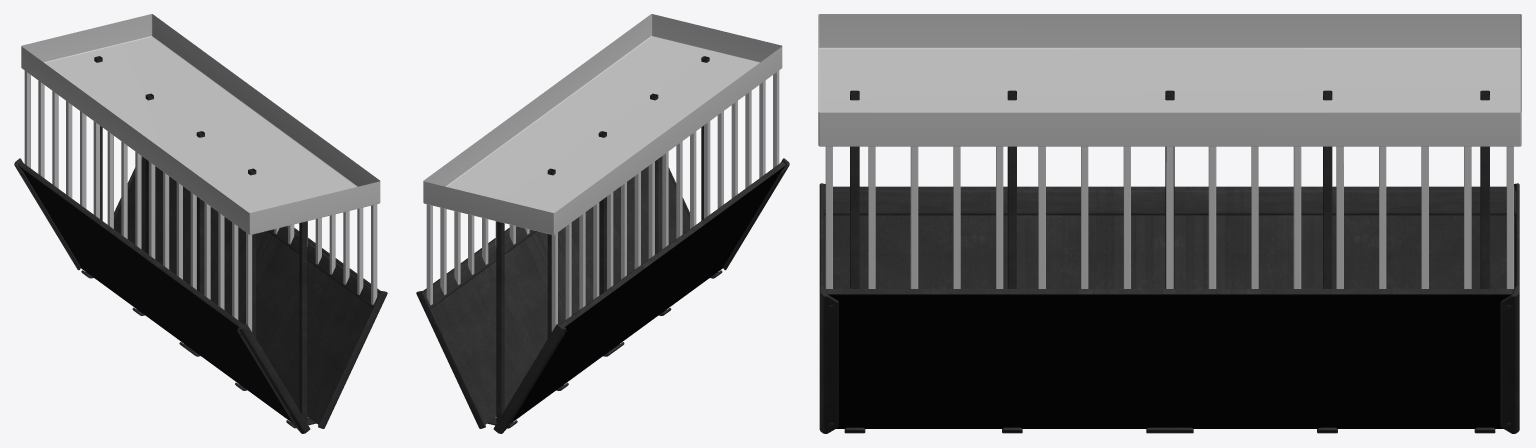
File: Screen_10.fbx
3 renders of one model, left to right at view 1: azimuth 30°, elevation 25°; view 2: azimuth 150°, elevation 25°; view 3: azimuth 270°, elevation 25°, orthographic. The views are drawn at different scales.
Visible parts, largest first — view 1: Cube.241, Circle.004, Circle.001; view 2: Cube.241, Circle.004, Circle.001; view 3: Cube.241, Circle.004, Circle.001.
Part boxes in pixels (x1=…): Cube.241: x1=21, y1=14, x2=380, y2=428; Circle.004: x1=114, y1=156, x2=387, y2=428; Circle.001: x1=14, y1=158, x2=310, y2=433; Cube.241: x1=423, y1=14, x2=782, y2=428; Circle.004: x1=416, y1=156, x2=689, y2=428; Circle.001: x1=493, y1=158, x2=789, y2=433; Cube.241: x1=818, y1=14, x2=1521, y2=433; Circle.004: x1=819, y1=285, x2=1519, y2=433; Circle.001: x1=819, y1=183, x2=1519, y2=288.
Size of the model in its own units: 345 by 522 by 918.
